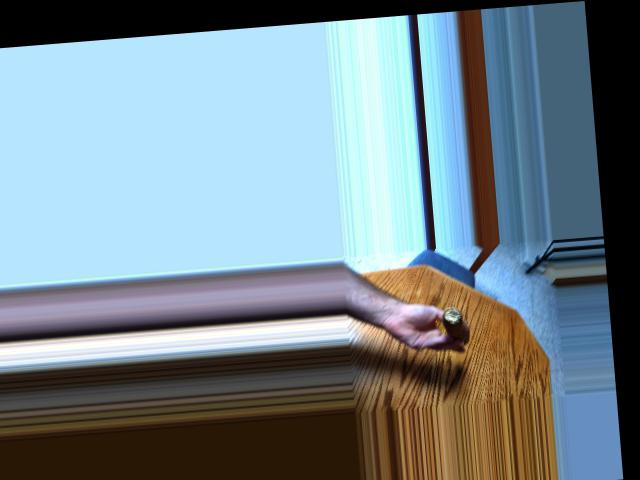sweet_potato: (434, 300, 471, 348)
